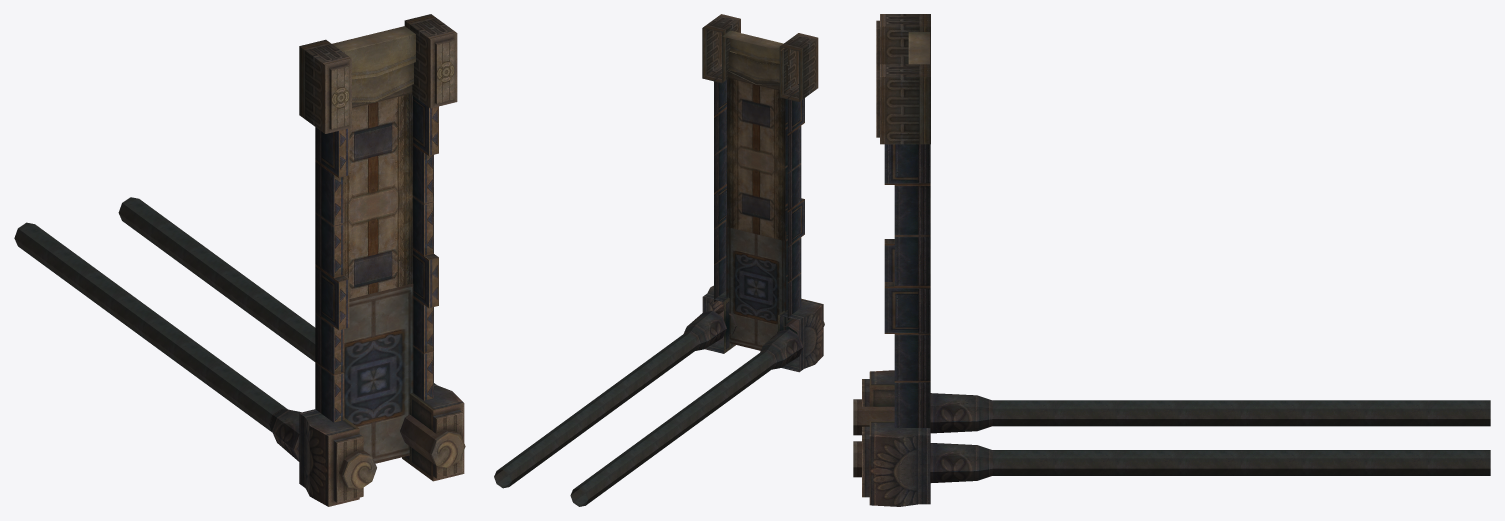
File: juqing_fuben_376_bridge02.obj
The picture shows the model from 3 angles, left to right: view 1: azimuth 30°, elevation 25°; view 2: azimuth 150°, elevation 25°; view 3: azimuth 270°, elevation 25°; orthographic projection. The views are drawn at different scales.
Visible parts, largest first — view 1: juqing_fuben_376_bridge02; view 2: juqing_fuben_376_bridge02; view 3: juqing_fuben_376_bridge02.
Boxes of the visible parts, x1,y1,x2,y2 form: juqing_fuben_376_bridge02: [14, 14, 465, 506]; juqing_fuben_376_bridge02: [494, 14, 824, 506]; juqing_fuben_376_bridge02: [853, 14, 1490, 506].
Size of the model in its own units: 583 by 1707 by 2305.
Materials: 2 (2 with a texture image).
